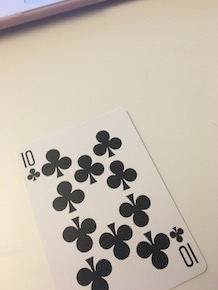TenOfClubs: (10, 109, 209, 290)
